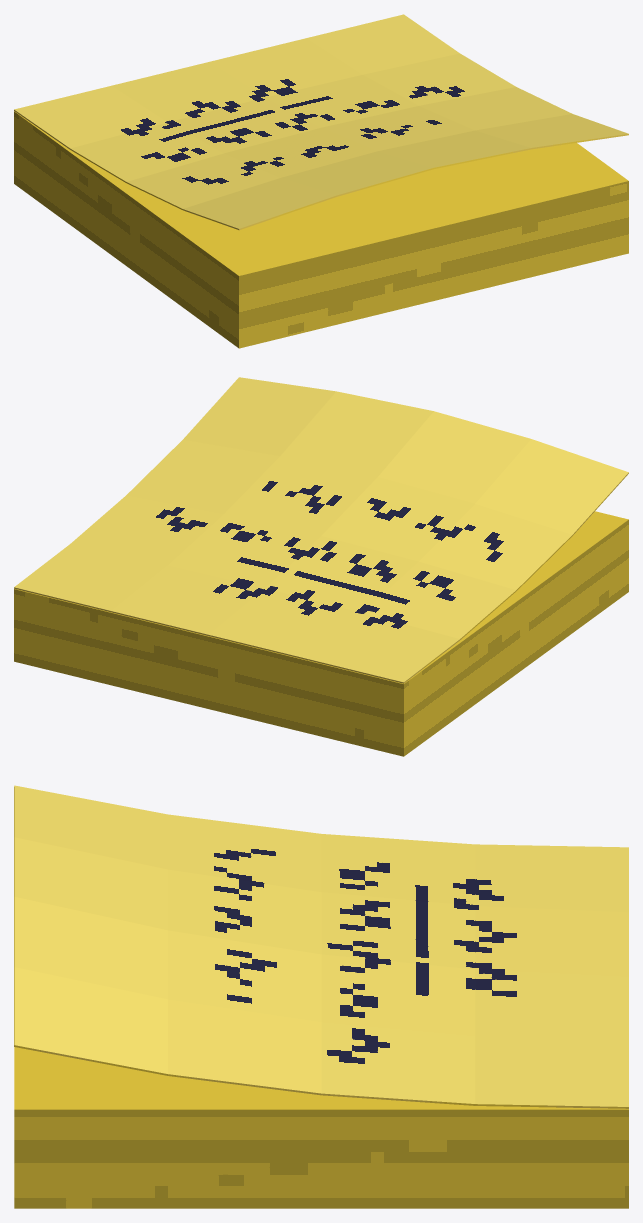
File: temp_notes.glb
3 renders of one model, top to bottom at view 1: azimuth 30°, elevation 25°; view 2: azimuth 150°, elevation 25°; view 3: azimuth 270°, elevation 25°, orthographic. The views are drawn at different scales.
Visible parts, largest first — view 1: temp_notes; view 2: temp_notes; view 3: temp_notes.
Part boxes in pixels (x1,y1,x2,y2): temp_notes: [14, 14, 628, 348]; temp_notes: [14, 377, 628, 756]; temp_notes: [14, 785, 628, 1208].
Bounding box in the file's own units: 0.09 × 0.0294 × 0.0901.
1 material, 1 textured.
